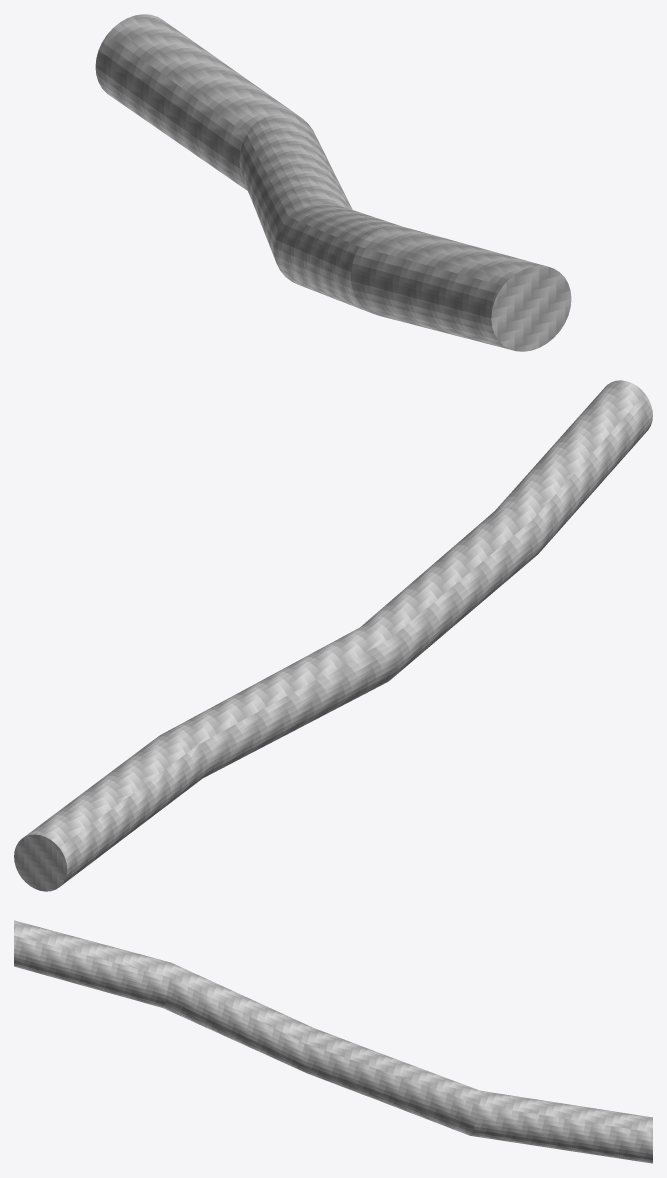
Rendered from cable_serpent.fbx.
The picture shows the model from 3 angles, top to bottom: view 1: azimuth 30°, elevation 25°; view 2: azimuth 150°, elevation 25°; view 3: azimuth 270°, elevation 25°; orthographic projection. The views are drawn at different scales.
Parts seen in each view (by area): view 1: Cable.003, Cable.000, Cable.001, Cable.002; view 2: Cable.001, Cable.000, Cable.002, Cable.003; view 3: Cable.001, Cable.000, Cable.003, Cable.002.
Part boxes in pixels (<box>): Cable.003: <box>351,225,571,351</box>; Cable.000: <box>95,14,299,190</box>; Cable.001: <box>239,112,352,262</box>; Cable.002: <box>274,203,400,312</box>; Cable.001: <box>163,625,396,777</box>; Cable.000: <box>14,732,208,891</box>; Cable.002: <box>361,506,542,678</box>; Cable.003: <box>496,380,652,550</box>; Cable.001: <box>304,1027,480,1135</box>; Cable.000: <box>470,1090,652,1163</box>; Cable.003: <box>14,920,171,1007</box>; Cable.002: <box>163,962,312,1072</box>.
Bounding box in the file's own units: 326 × 346 × 1116.
